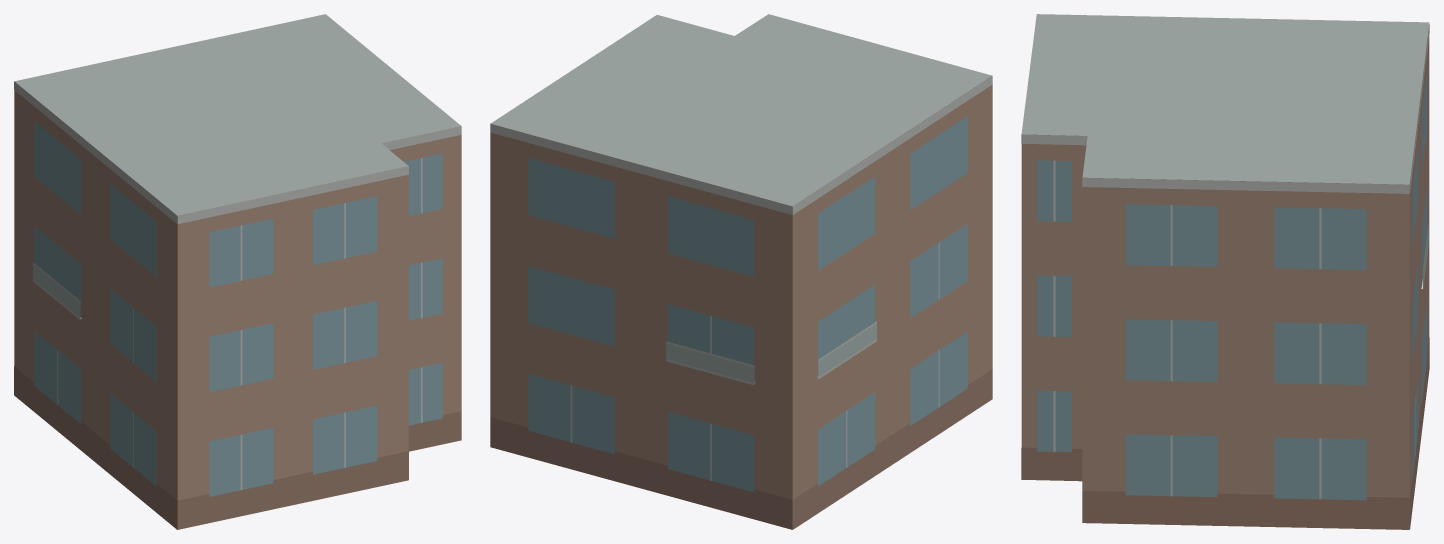
The model's file is survey-upis-32620953.glb.
3 renders of one model, left to right at view 1: azimuth 30°, elevation 25°; view 2: azimuth 150°, elevation 25°; view 3: azimuth 270°, elevation 25°, orthographic. The views are drawn at different scales.
Parts seen in each view (by area): view 1: survey-upis-32620953.tmp; view 2: survey-upis-32620953.tmp; view 3: survey-upis-32620953.tmp.
Part boxes in pixels (x1,y1,x2,y2): survey-upis-32620953.tmp: [14, 14, 461, 529]; survey-upis-32620953.tmp: [490, 14, 992, 529]; survey-upis-32620953.tmp: [1021, 14, 1429, 529].
Size of the model in its own units: 9.55 by 9 by 9.65.
